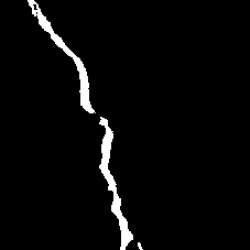crack: (29, 2, 93, 114), (98, 115, 132, 249), (139, 243, 142, 250)
